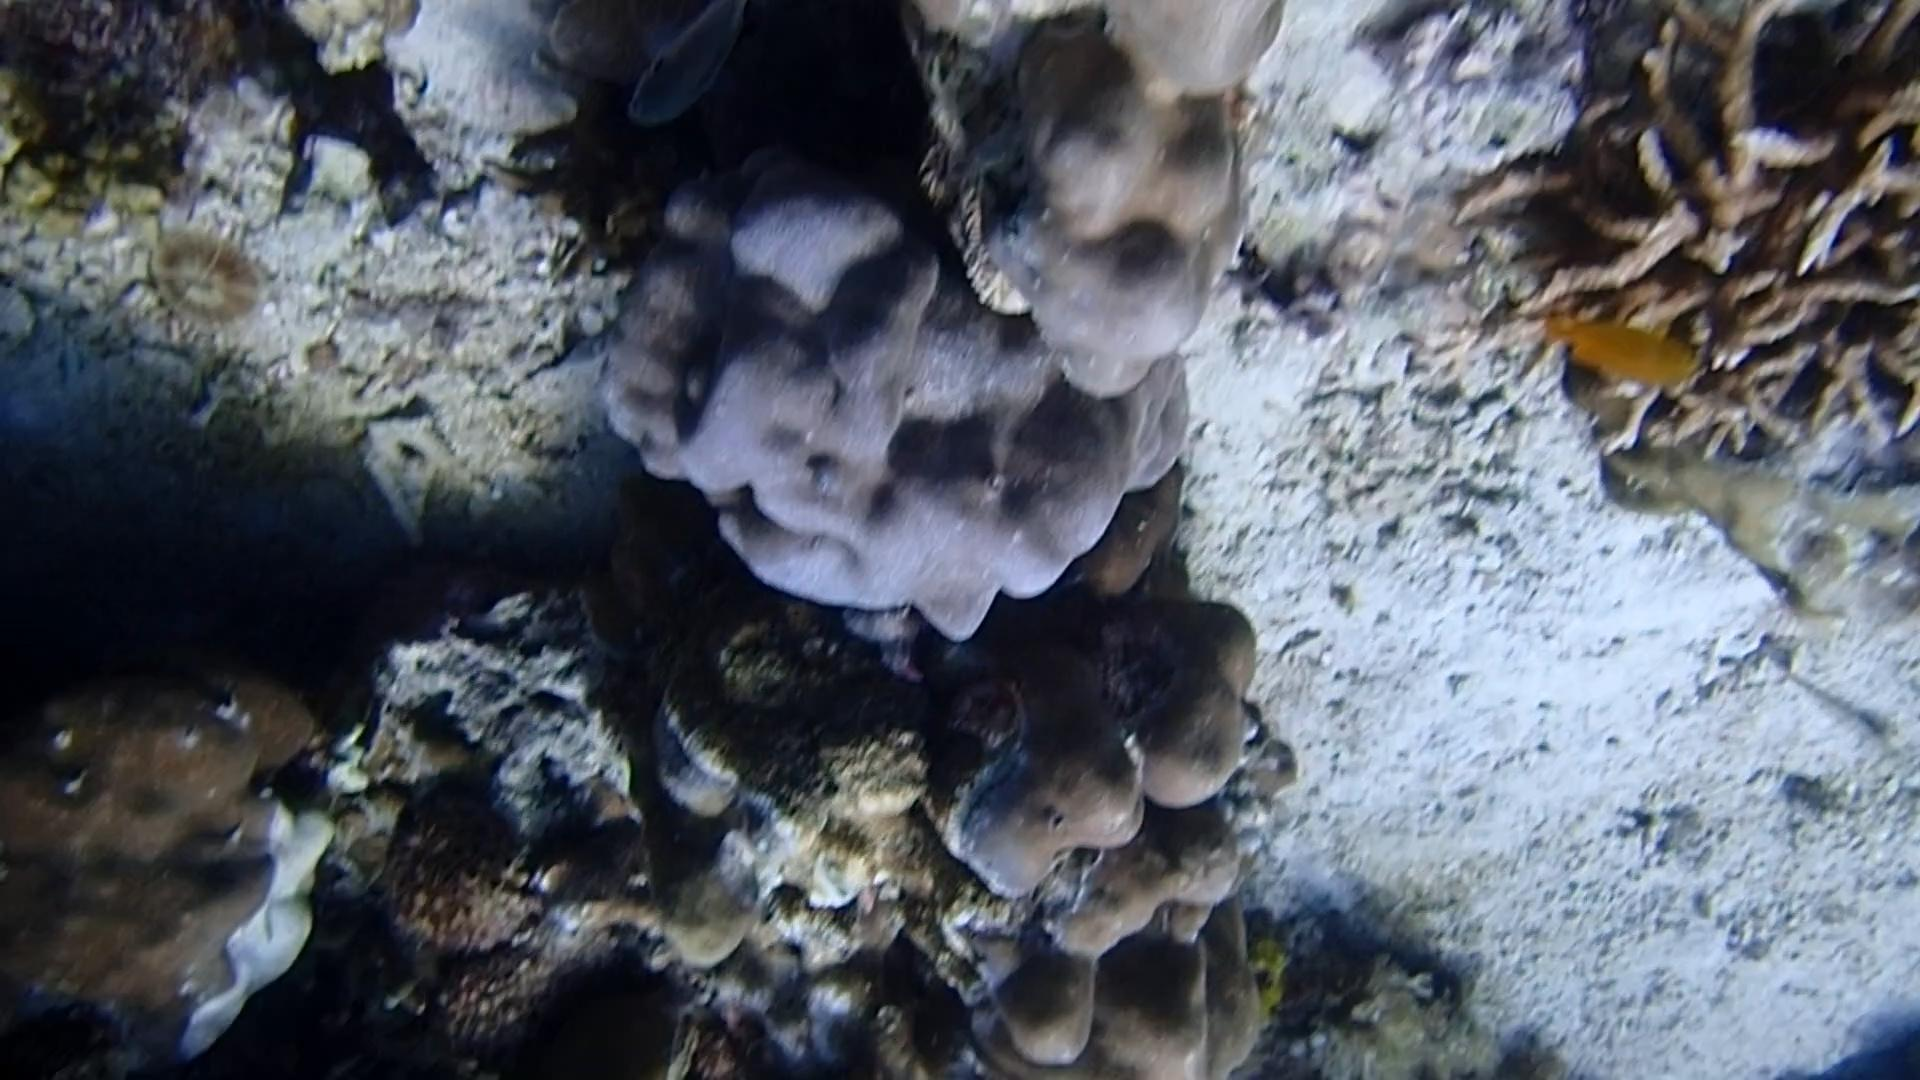Blue Fish Two: (608, 0, 757, 133)
Yellow Fish: (1540, 309, 1700, 397)
